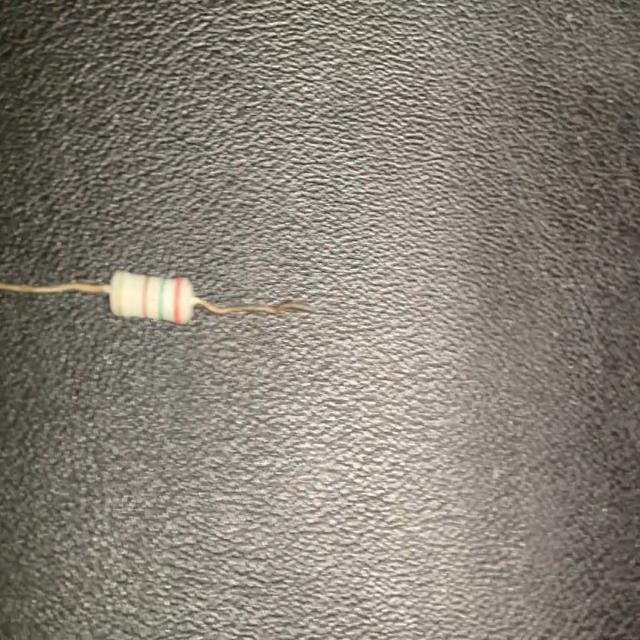resistor: (0, 260, 329, 340)
